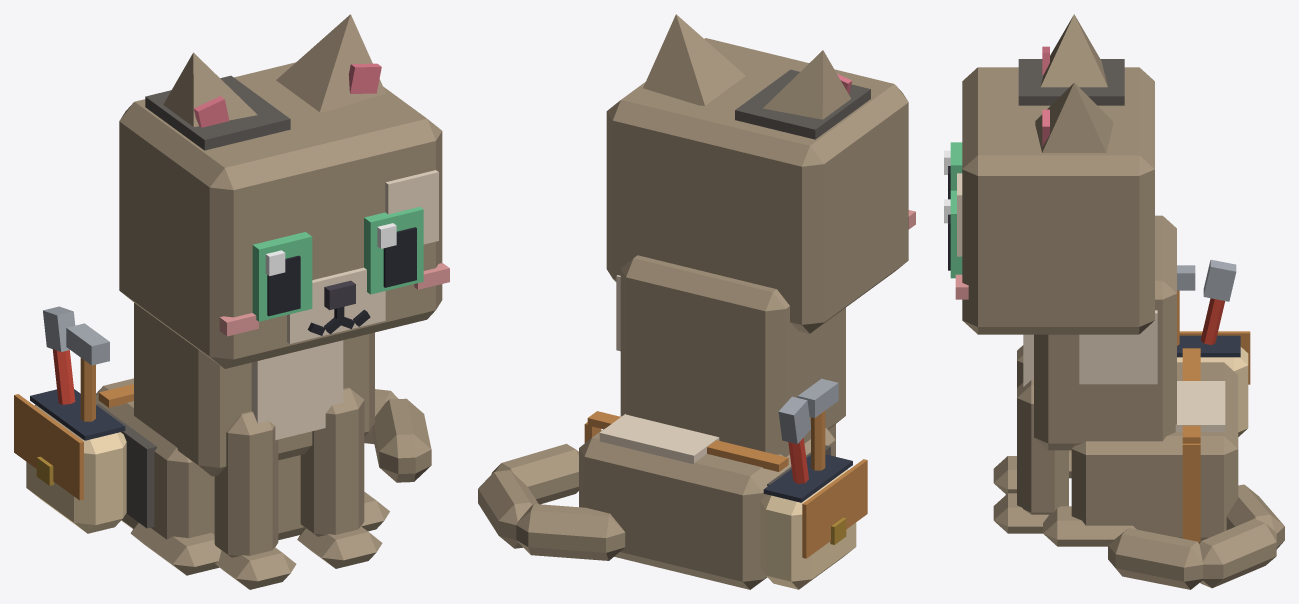
File: CatCafe_Cat_Rubble_Sit.fbx
3 views of the same model, side by side, from view 1: azimuth 30°, elevation 25°; view 2: azimuth 150°, elevation 25°; view 3: azimuth 270°, elevation 25° (orthographic). The views are drawn at different scales.
Parts seen in each view (by area): view 1: CatCafe_Cat_Rubble_Sit_Head, CatCafe_Cat_Rubble_Sit_Body, CatCafe_Cat_Rubble_Sit_LegF2, CatCafe_Cat_Rubble_Sit_LegF1, CatCafe_Cat_Rubble_Sit_EarL, CatCafe_Cat_Rubble_Sit_Eye2, CatCafe_Cat_Rubble_Sit_Eye1, CatCafe_Cat_Rubble_Sit_Tail, CatCafe_Cat_Rubble_Sit_EarR; view 2: CatCafe_Cat_Rubble_Sit_Body, CatCafe_Cat_Rubble_Sit_Head, CatCafe_Cat_Rubble_Sit_Tail, CatCafe_Cat_Rubble_Sit_EarL, CatCafe_Cat_Rubble_Sit_EarR; view 3: CatCafe_Cat_Rubble_Sit_Head, CatCafe_Cat_Rubble_Sit_Body, CatCafe_Cat_Rubble_Sit_Tail, CatCafe_Cat_Rubble_Sit_LegF1, CatCafe_Cat_Rubble_Sit_EarL, CatCafe_Cat_Rubble_Sit_EarR, CatCafe_Cat_Rubble_Sit_LegF2, CatCafe_Cat_Rubble_Sit_Eye1, CatCafe_Cat_Rubble_Sit_Eye2.
Part boxes in pixels (bbox=[...]): CatCafe_Cat_Rubble_Sit_Head: bbox=[119, 62, 449, 368]; CatCafe_Cat_Rubble_Sit_Body: bbox=[14, 303, 389, 575]; CatCafe_Cat_Rubble_Sit_LegF2: bbox=[214, 411, 296, 589]; CatCafe_Cat_Rubble_Sit_LegF1: bbox=[297, 387, 382, 568]; CatCafe_Cat_Rubble_Sit_EarL: bbox=[276, 14, 385, 112]; CatCafe_Cat_Rubble_Sit_Eye2: bbox=[252, 232, 312, 321]; CatCafe_Cat_Rubble_Sit_Eye1: bbox=[364, 207, 423, 294]; CatCafe_Cat_Rubble_Sit_Tail: bbox=[364, 389, 431, 482]; CatCafe_Cat_Rubble_Sit_EarR: bbox=[163, 52, 257, 127]; CatCafe_Cat_Rubble_Sit_Body: bbox=[579, 255, 867, 589]; CatCafe_Cat_Rubble_Sit_Head: bbox=[606, 38, 915, 333]; CatCafe_Cat_Rubble_Sit_Tail: bbox=[478, 443, 625, 560]; CatCafe_Cat_Rubble_Sit_EarL: bbox=[643, 14, 745, 105]; CatCafe_Cat_Rubble_Sit_EarR: bbox=[763, 50, 851, 119]; CatCafe_Cat_Rubble_Sit_Head: bbox=[955, 59, 1154, 334]; CatCafe_Cat_Rubble_Sit_Body: bbox=[1023, 215, 1250, 546]; CatCafe_Cat_Rubble_Sit_Tail: bbox=[1108, 484, 1284, 589]; CatCafe_Cat_Rubble_Sit_LegF1: bbox=[993, 380, 1068, 533]; CatCafe_Cat_Rubble_Sit_EarL: bbox=[1035, 82, 1113, 152]; CatCafe_Cat_Rubble_Sit_EarR: bbox=[1040, 14, 1107, 87]; CatCafe_Cat_Rubble_Sit_LegF2: bbox=[993, 345, 1023, 494]; CatCafe_Cat_Rubble_Sit_Eye1: bbox=[944, 190, 962, 278]; CatCafe_Cat_Rubble_Sit_Eye2: bbox=[944, 142, 962, 199].
Bounding box in the file's own units: 1.42 × 1.85 × 1.24.
Materials: 1 (1 with a texture image).
